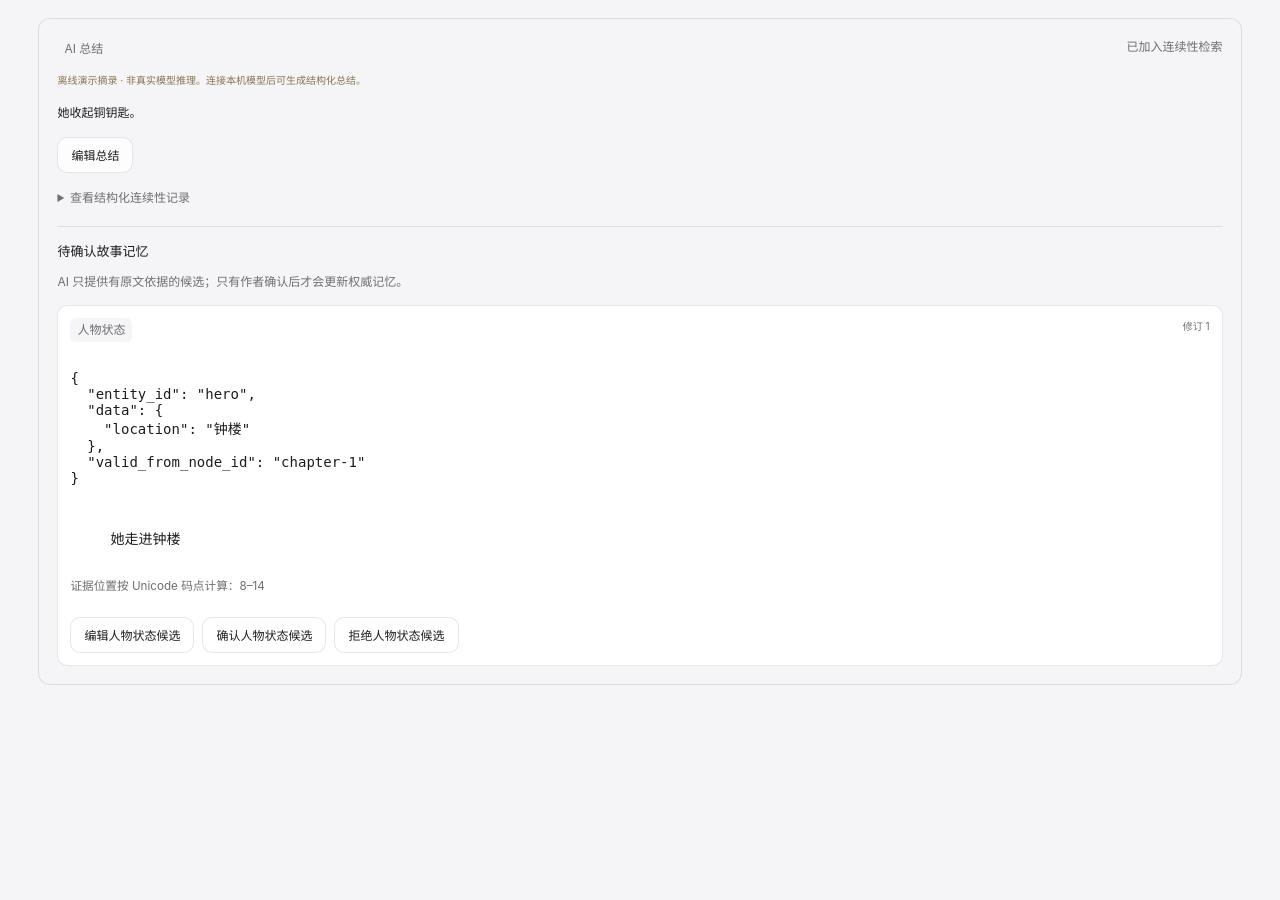
explains how to resolve a legacy entity-state transition without discarding the candidate
Click the button "确认人物状态候选".
click(264, 635)  # box [202, 617, 326, 653]
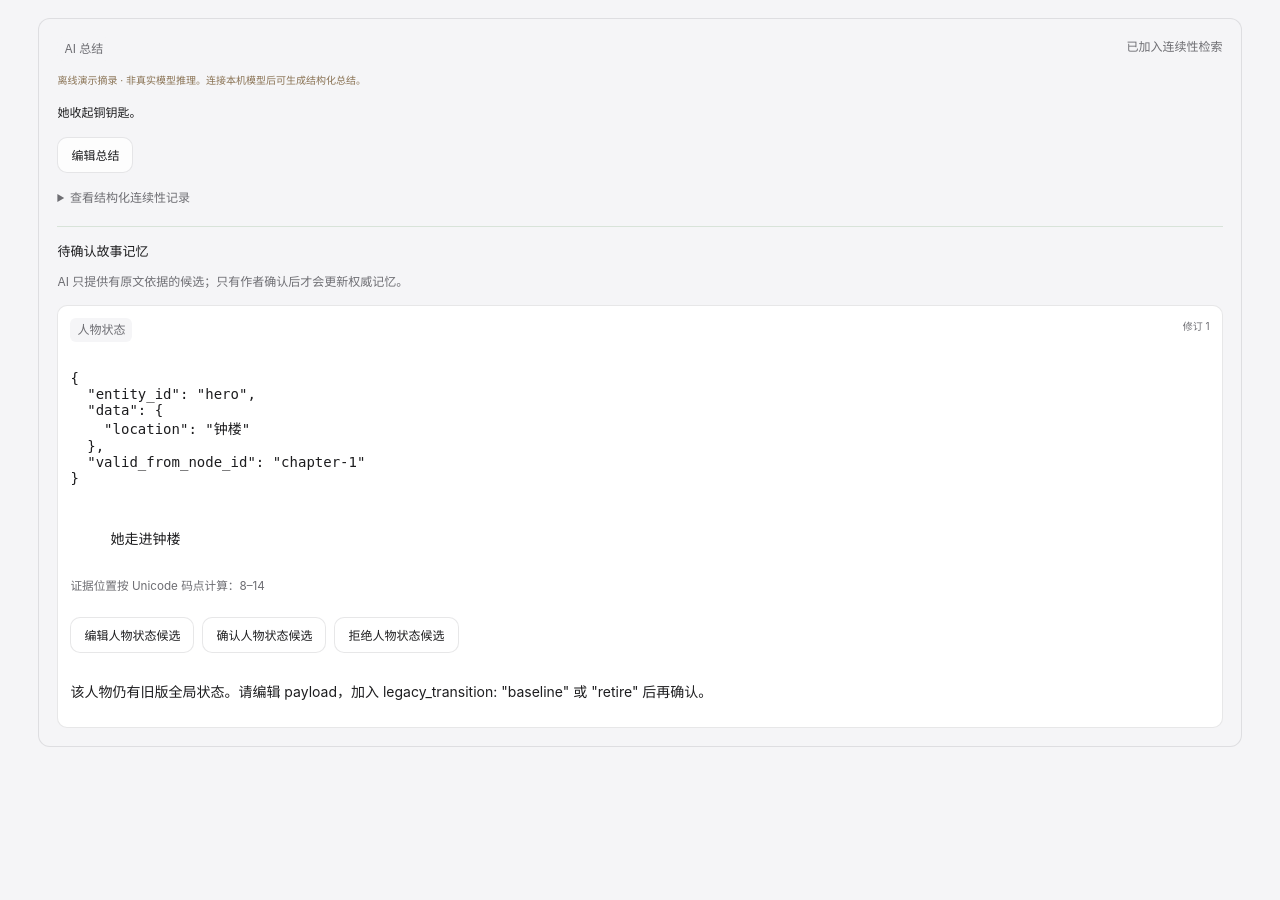
Check: the button "编辑人物状态候选" is shown, box [70, 617, 194, 653]
Check: the message reads "该人物仍有旧版全局状态。请编辑 payload，加入 legacy_transition: \"baseline\" 或 \"retire\" 后再确认。", box [70, 683, 712, 700]
